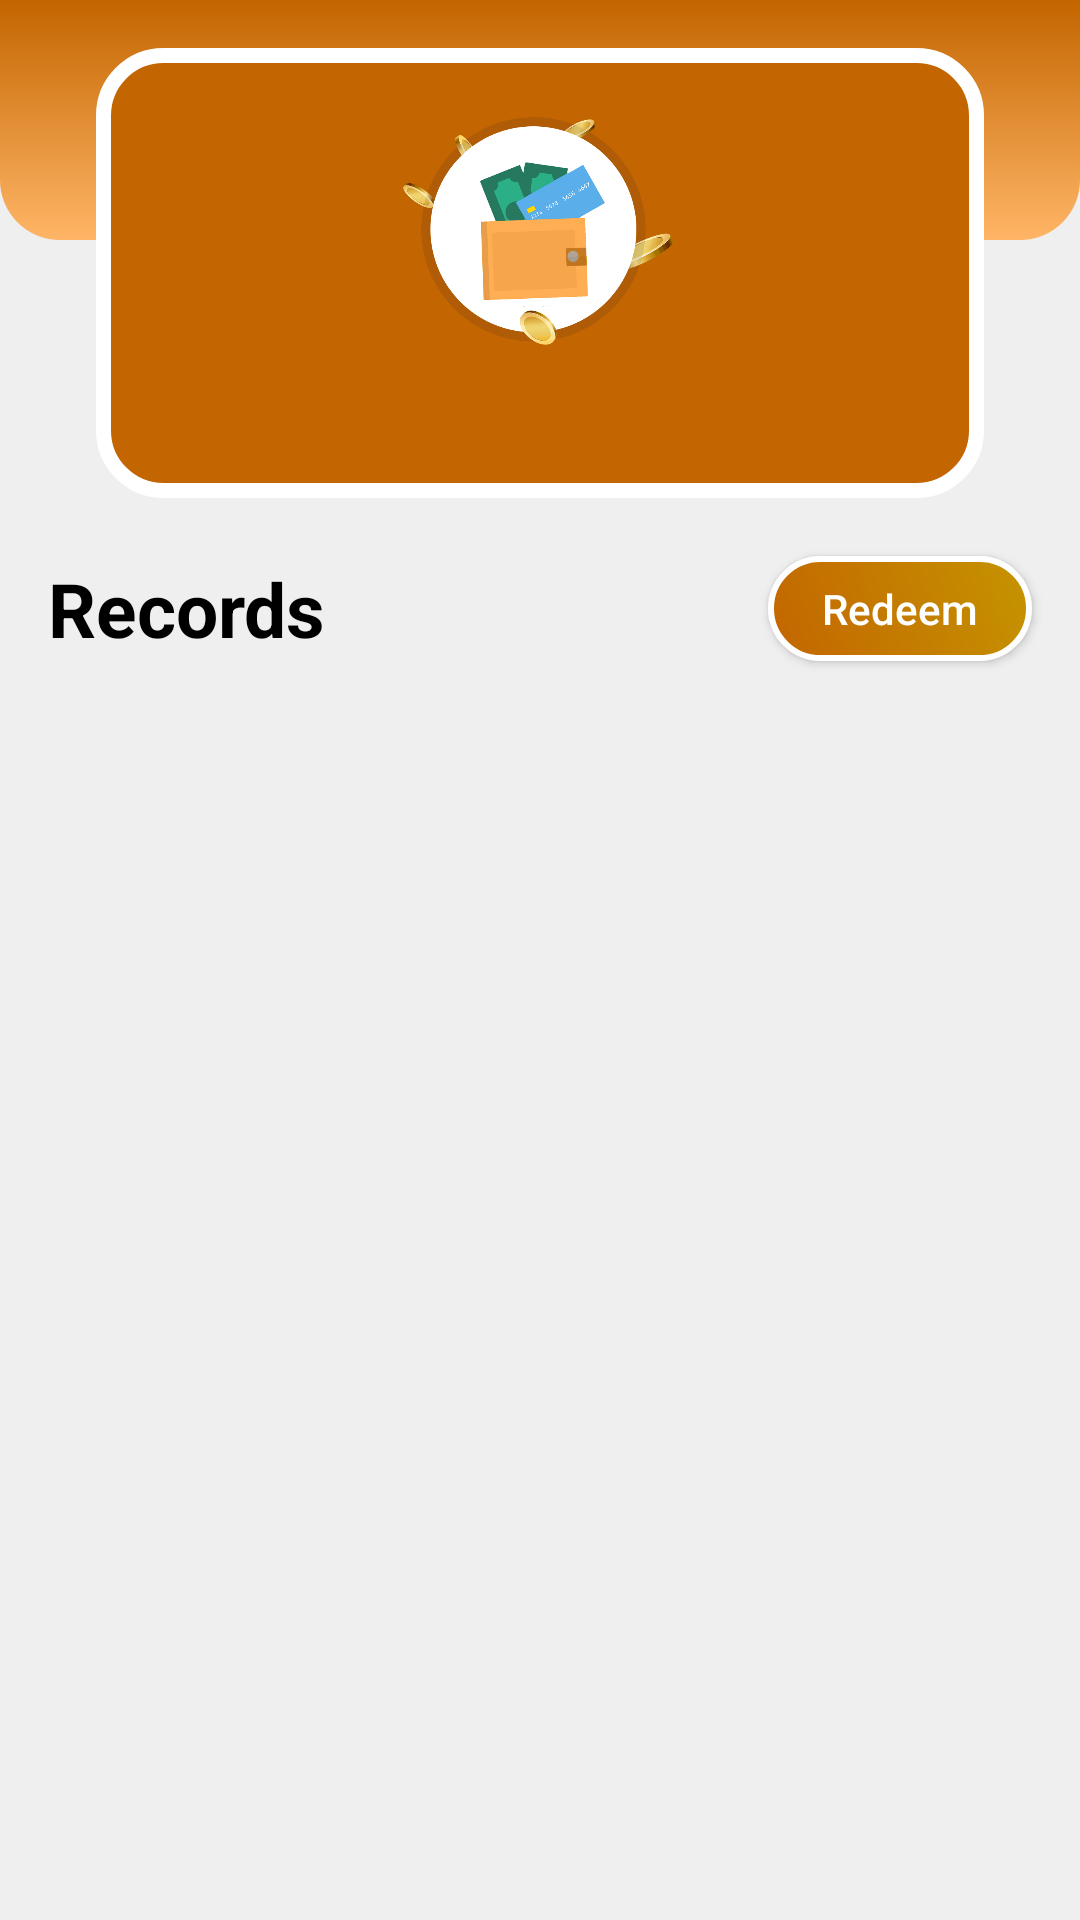

Icons on this 1080x1920 Android screen, each with its box as [left=x1, top=y1, right=x2, bottom=y2]:
wallete: [left=403, top=119, right=673, bottom=345]
